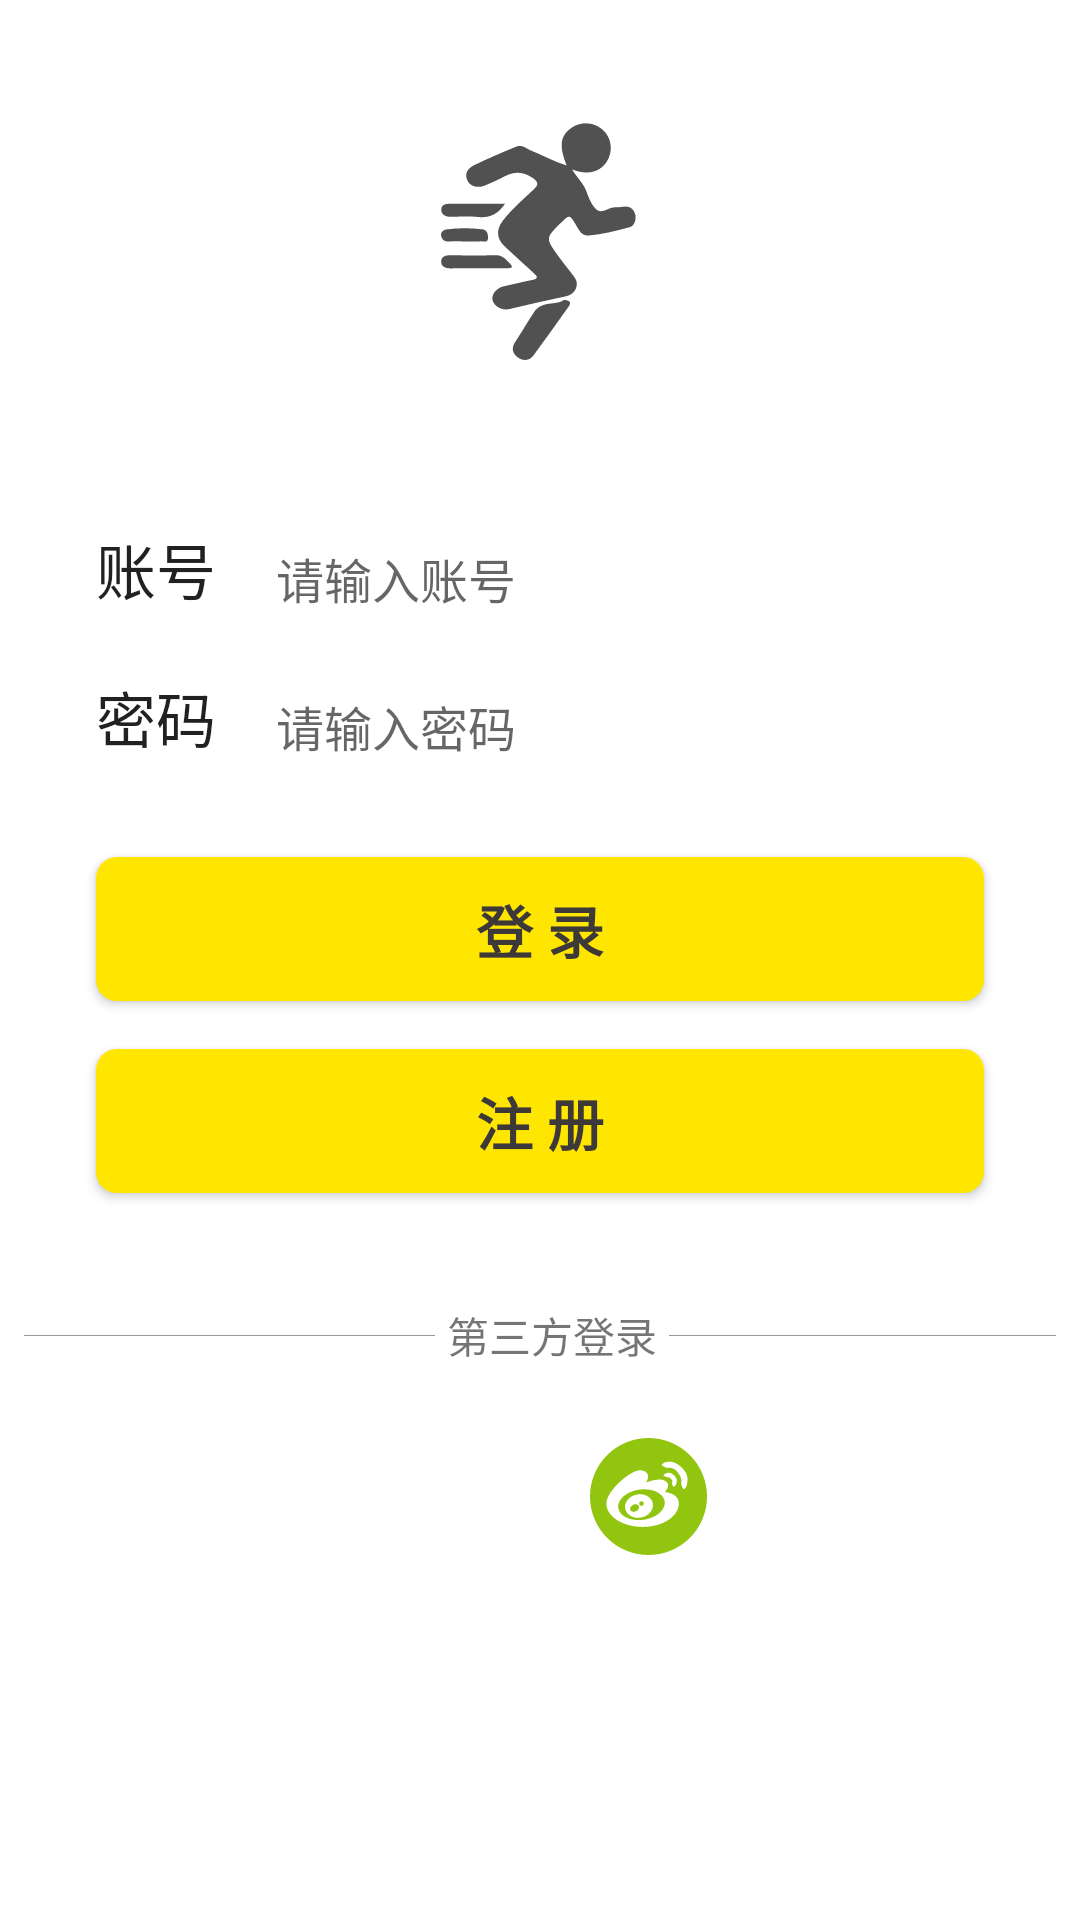

Icons on this 1080x1920 Android screen, each with the point to tap as [x,y]:
fitness: [538,241]
